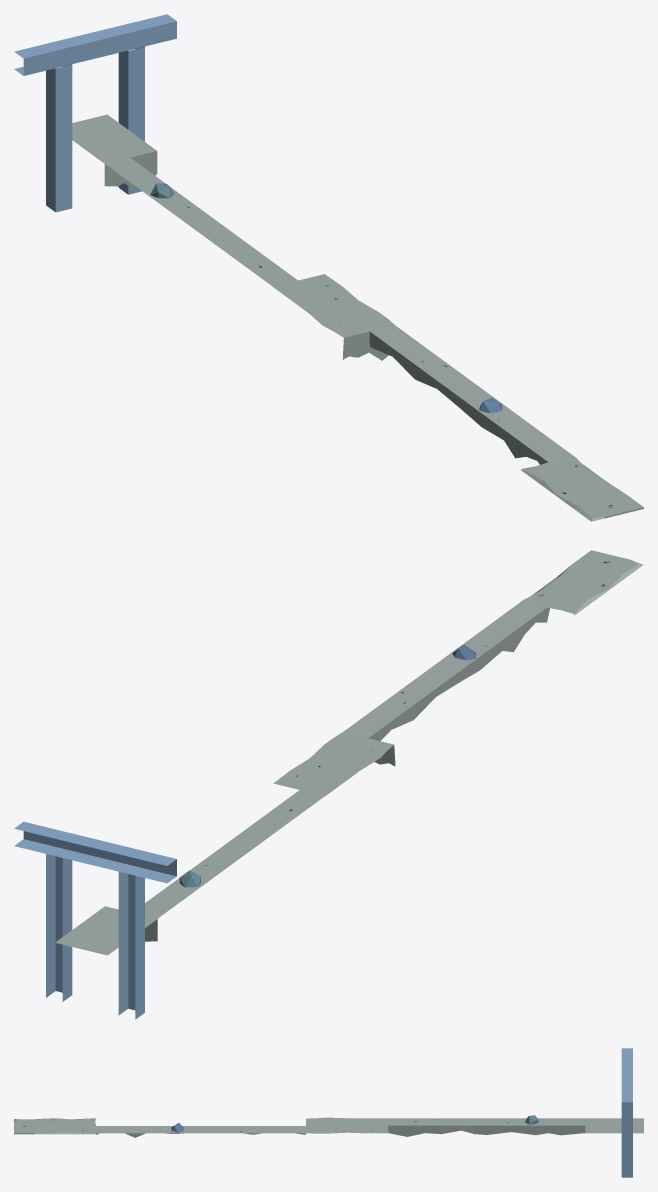
File: obstacle1.fbx
3 renders of one model, top to bottom at view 1: azimuth 30°, elevation 25°; view 2: azimuth 150°, elevation 25°; view 3: azimuth 270°, elevation 25°, orthographic. The views are drawn at different scales.
Visible parts, largest first — view 1: Cube.001, Cube.004; view 2: Cube.001, Cube.004; view 3: Cube.001, Cube.004.
Part boxes in pixels (bbox=[...]): Cube.001: bbox=[72, 114, 643, 521]; Cube.004: bbox=[14, 14, 176, 212]; Cube.001: bbox=[55, 550, 643, 955]; Cube.004: bbox=[14, 821, 176, 1019]; Cube.001: bbox=[14, 1117, 643, 1137]; Cube.004: bbox=[621, 1048, 632, 1177].
Bounding box in the file's own units: 41261 × 41547 × 249961.
